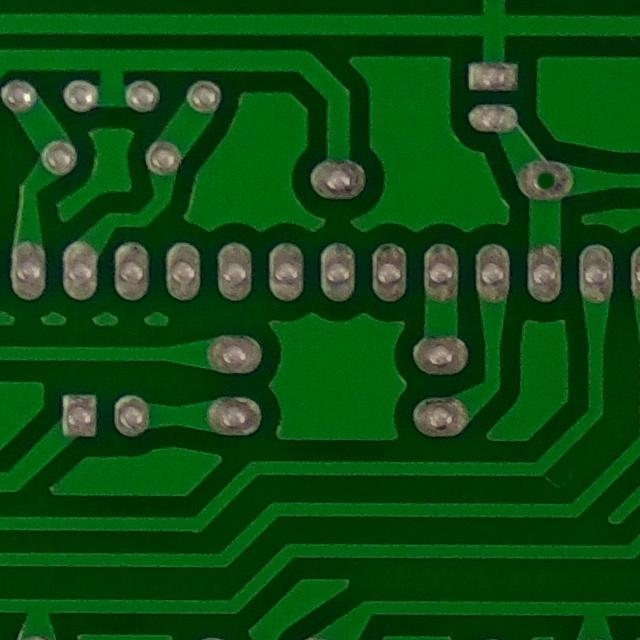missing_hole: (515, 154, 577, 203)
